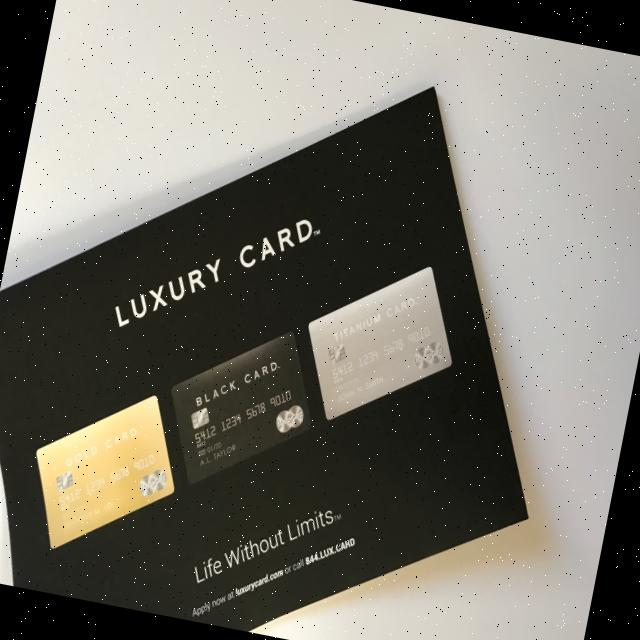paper: (0, 11, 606, 640)
